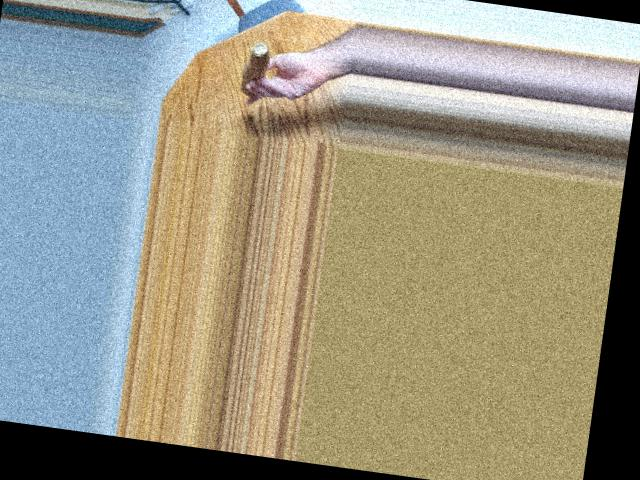sweet_potato: (238, 47, 263, 97)
